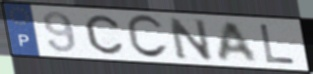9: (41, 10, 79, 54)
A: (216, 20, 261, 63)
C: (124, 13, 171, 61), (83, 13, 125, 56)
L: (258, 23, 298, 66)
N: (166, 16, 216, 62)
